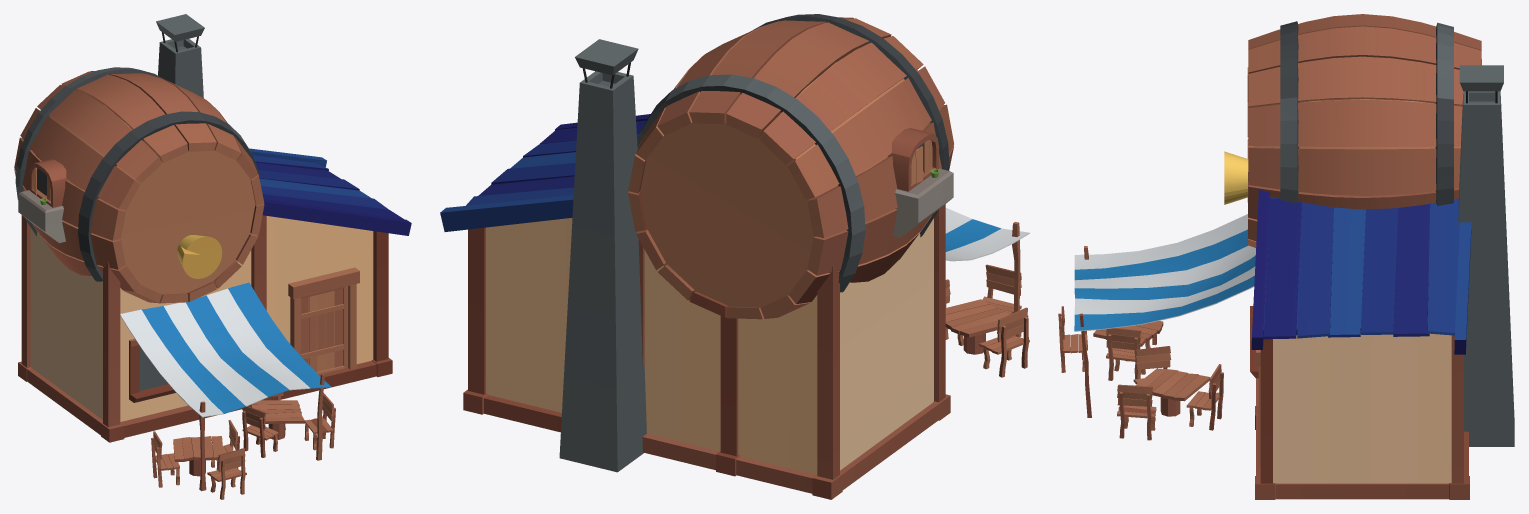
The model's file is Taverna_cozinha.fbx.
3 views of the same model, side by side, from view 1: azimuth 30°, elevation 25°; view 2: azimuth 150°, elevation 25°; view 3: azimuth 270°, elevation 25° (orthographic). The views are drawn at different scales.
Visible parts, largest first — view 1: Cylinder; view 2: Cylinder; view 3: Cylinder.
Part boxes in pixels (box(x1,y1,x2,y2)): Cylinder: box(14, 14, 411, 499); Cylinder: box(440, 14, 1029, 499); Cylinder: box(1058, 14, 1514, 499).
Bounding box in the file's own units: 519 × 458 × 519.
1 material, 1 textured.
